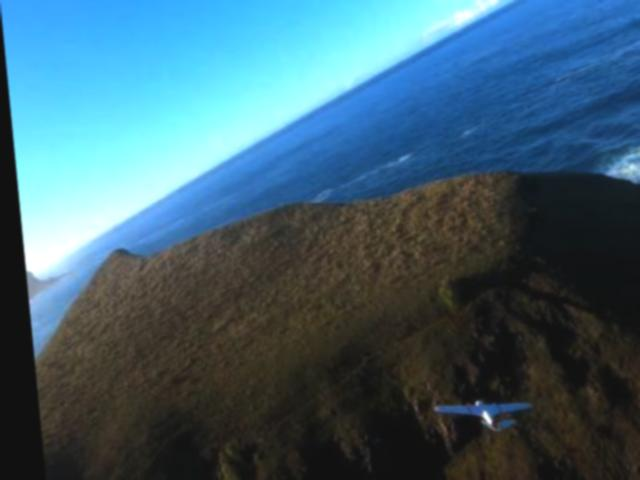uav: (427, 394, 528, 434)
